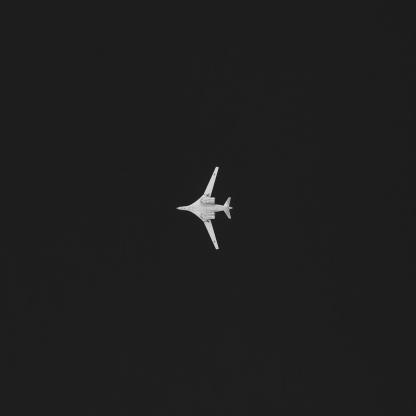Tu160: (177, 168, 234, 251)
